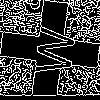W: (25, 25, 76, 77)
